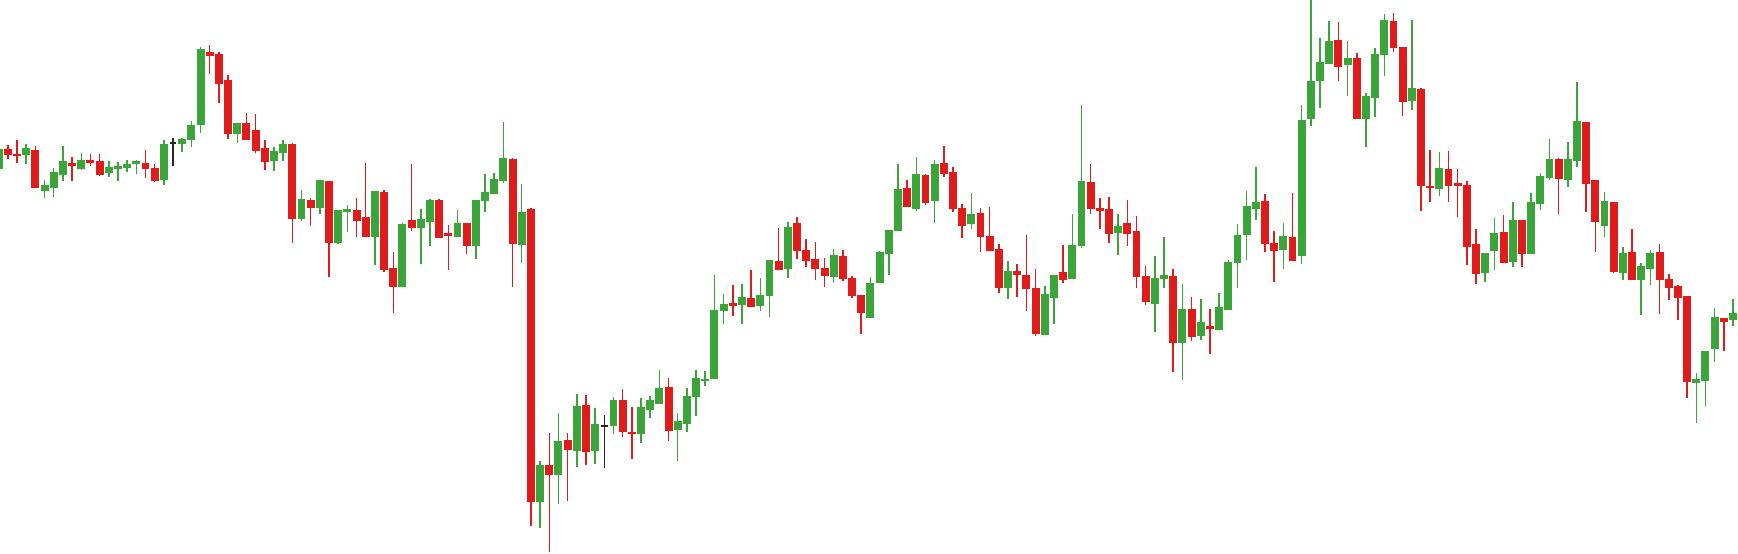buy: (763, 236, 877, 341)
sell: (938, 96, 1097, 285), (405, 113, 520, 242), (1327, 11, 1398, 98)
